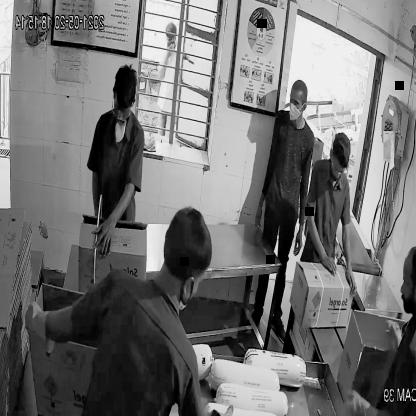goggles: (111, 99, 138, 120)
no_goggles: (288, 95, 305, 110)
